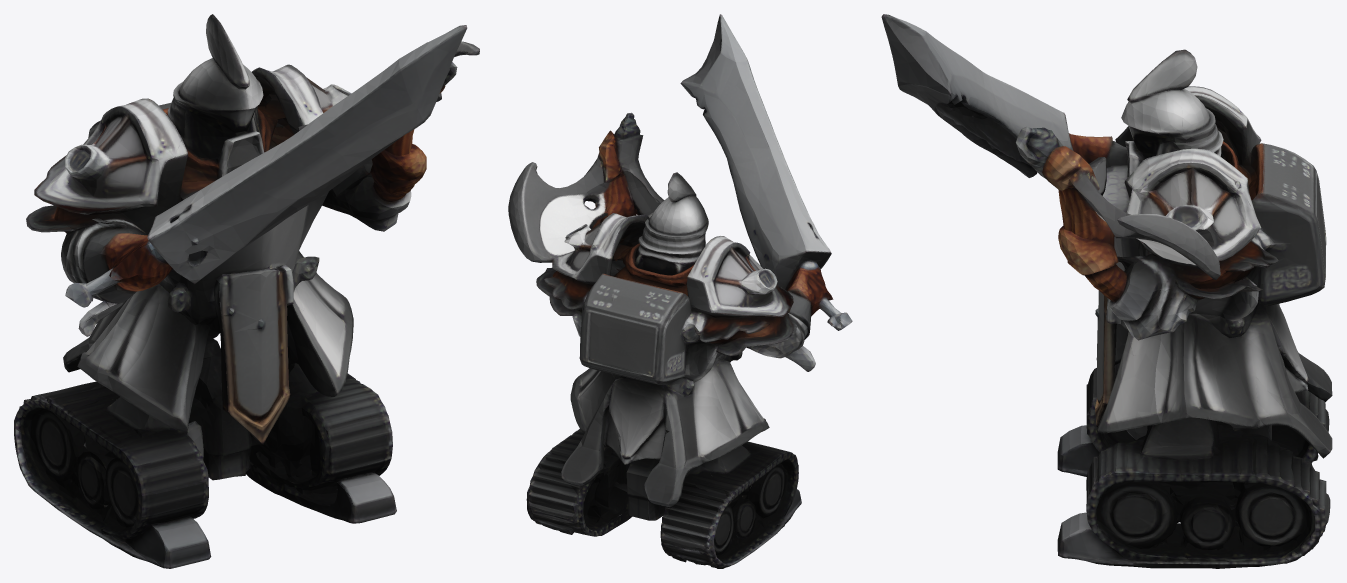
Rendered from WarlordBossEnemy.glb.
3 renders of one model, left to right at view 1: azimuth 30°, elevation 25°; view 2: azimuth 150°, elevation 25°; view 3: azimuth 270°, elevation 25°, orthographic. The views are drawn at different scales.
Size of the model in its own units: 79.1 by 99.79 by 75.53.
Materials: 1 (1 with a texture image).
